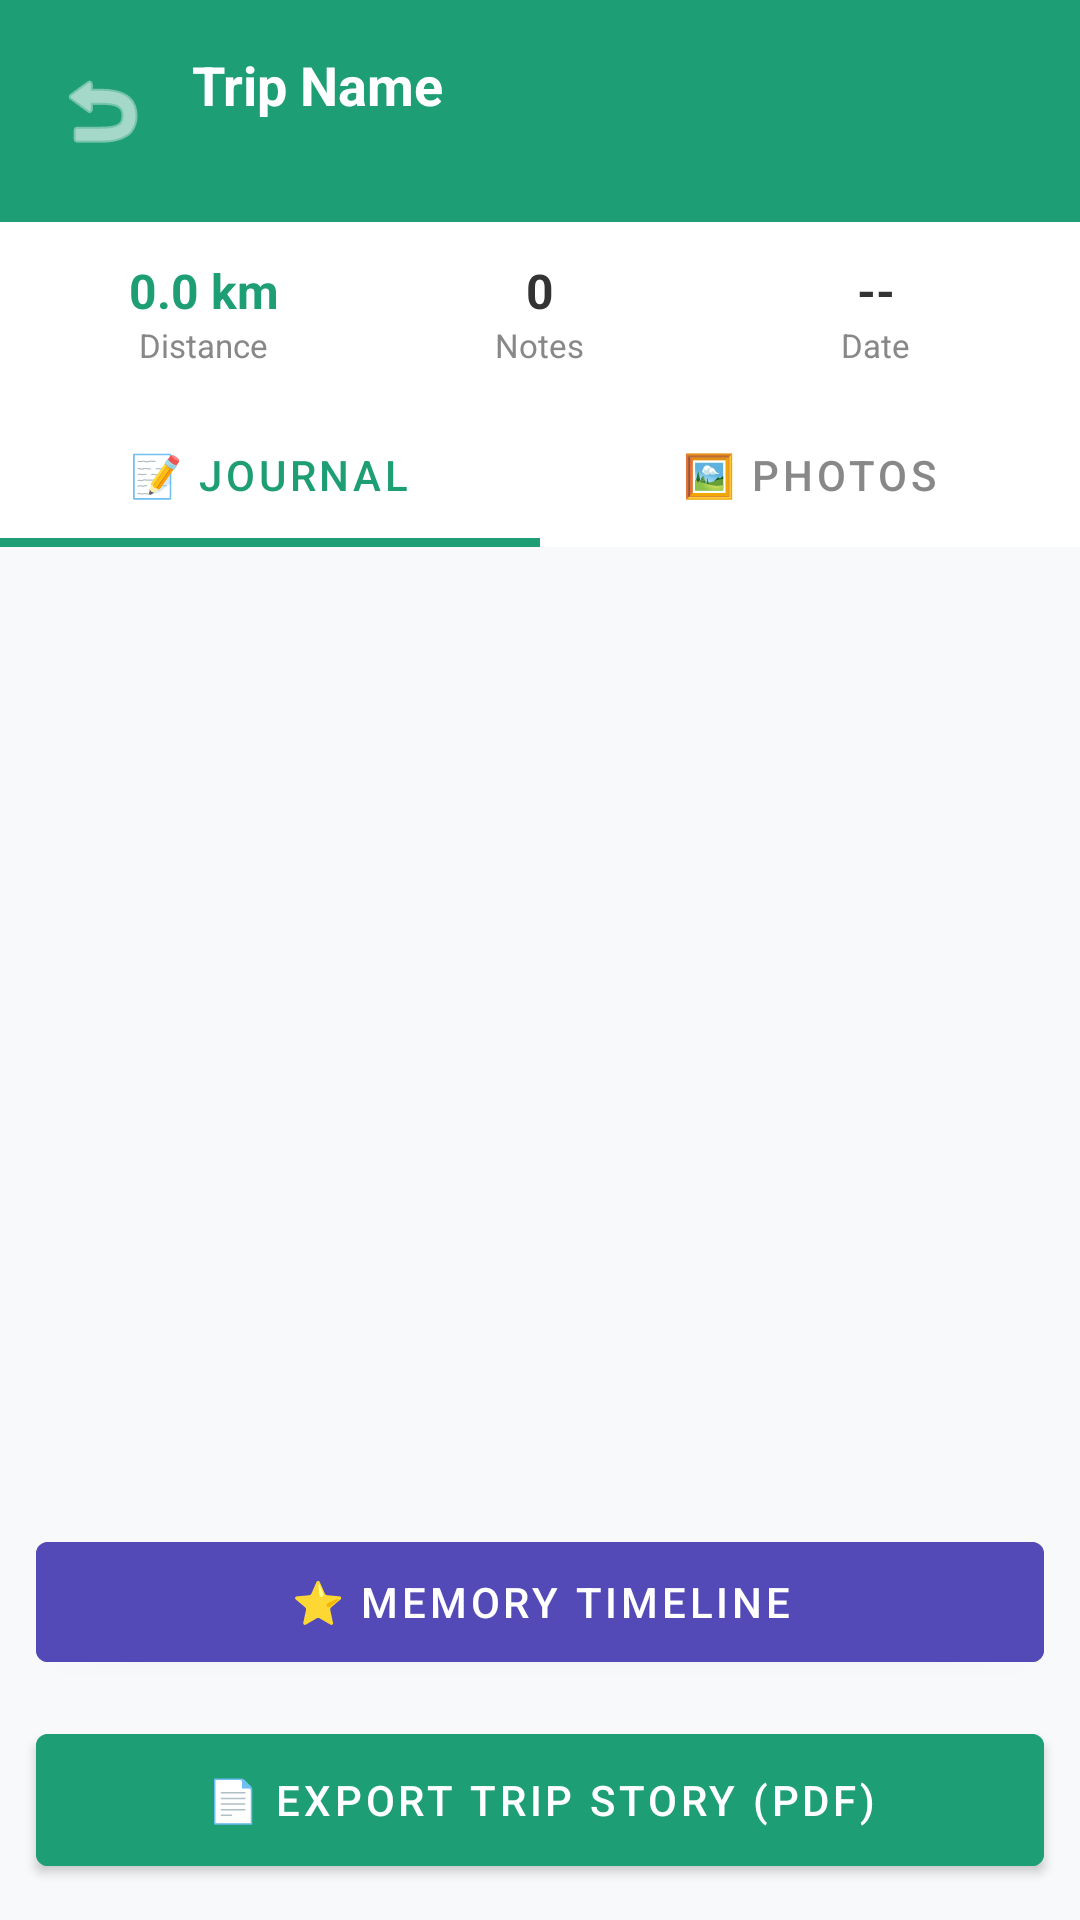

Icons on this 1080 × 1920 Android screen, each with its box as {"left": x1, "top": y1, "right": x2, "bottom": y2}:
Back: {"left": 69, "top": 80, "right": 138, "bottom": 143}
